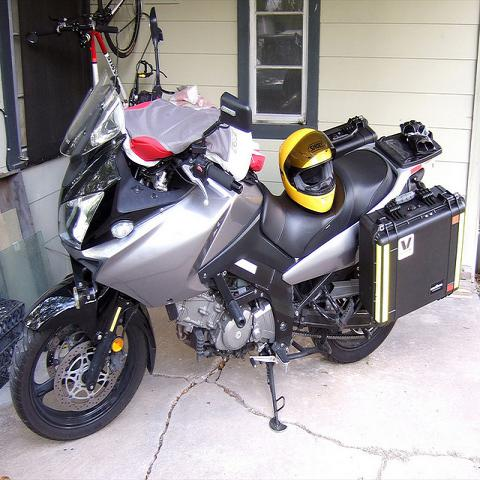motorcycle: (10, 6, 439, 442)
